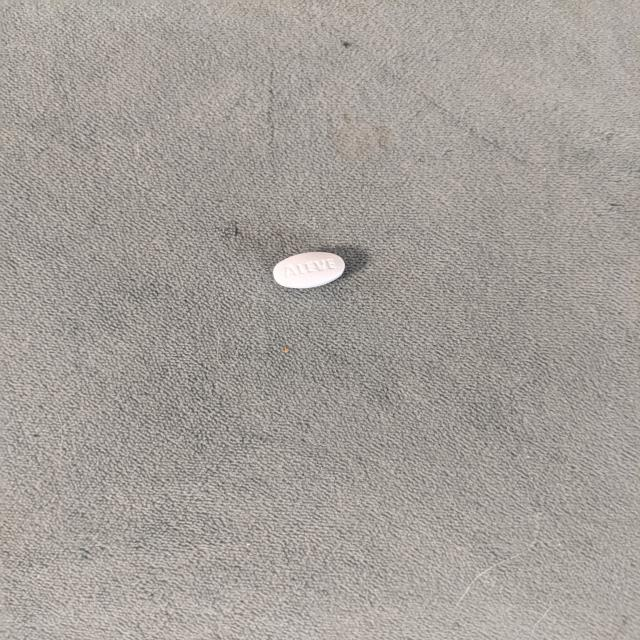non-organic waste: (272, 251, 346, 289)
